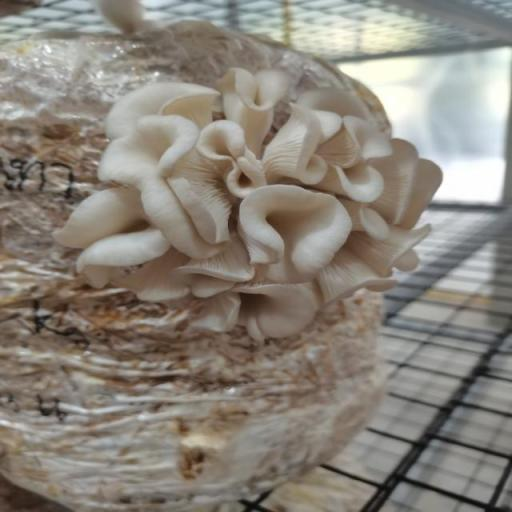White Oyster Mushroom: (67, 71, 436, 327)
